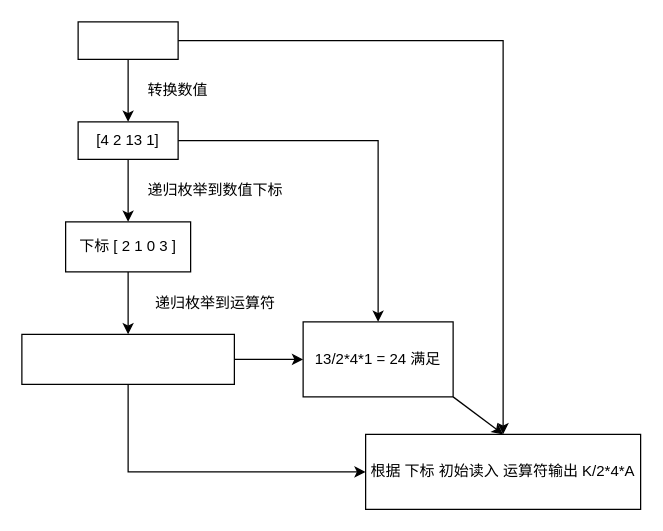
Some shapes in this 663 by 531 pixel diagram are drawn without their labels. The shapes that lost their labels are listed below. From the top down, each one's box as (x1, y1, x2, y2) in pixels, then its label:
(77, 21, 178, 59): [4 2 K A]
(21, 333, 234, 384): 下标 [ 2 1 0 3 ] 运算符 [ / * * ]
